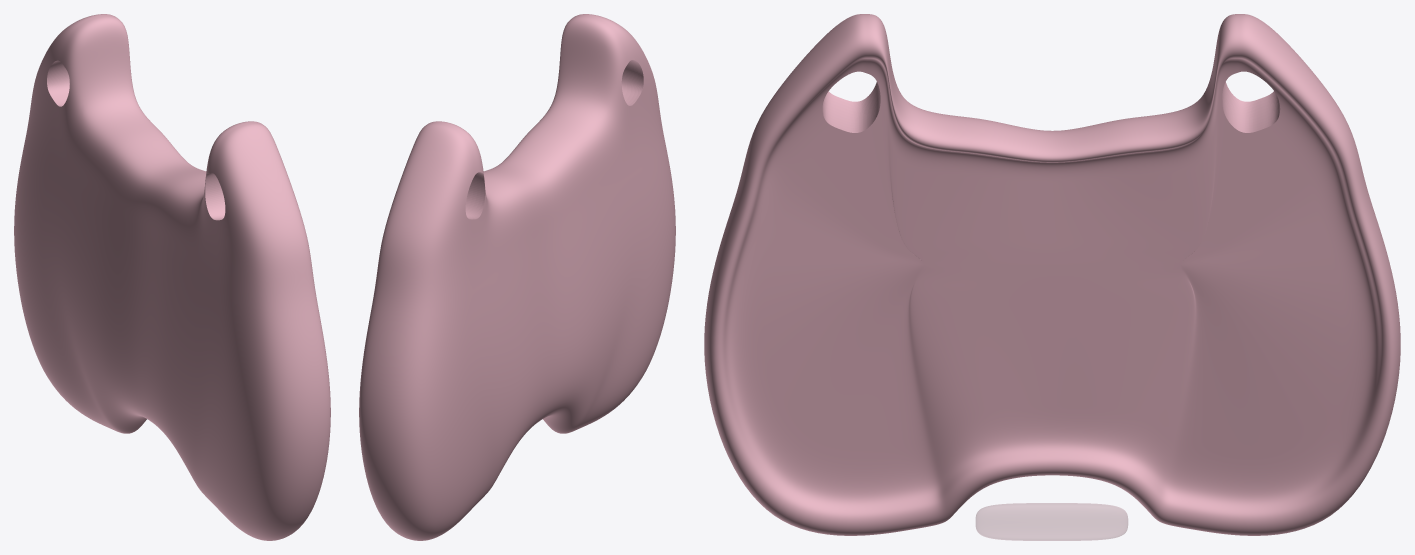
The model's file is miau.glb.
3 renders of one model, left to right at view 1: azimuth 30°, elevation 25°; view 2: azimuth 150°, elevation 25°; view 3: azimuth 270°, elevation 25°, orthographic. The views are drawn at different scales.
Visible parts, largest first — view 1: Cube; view 2: Cube; view 3: Cube, Cube.011.
Boxes of the visible parts, x1,y1,x2,y2 form: Cube: (14,14,330,540); Cube: (359,14,675,540); Cube: (704,14,1400,535); Cube.011: (976,503,1127,540).
Bounding box in the file's own units: 4.73 × 24.69 × 30.42.
